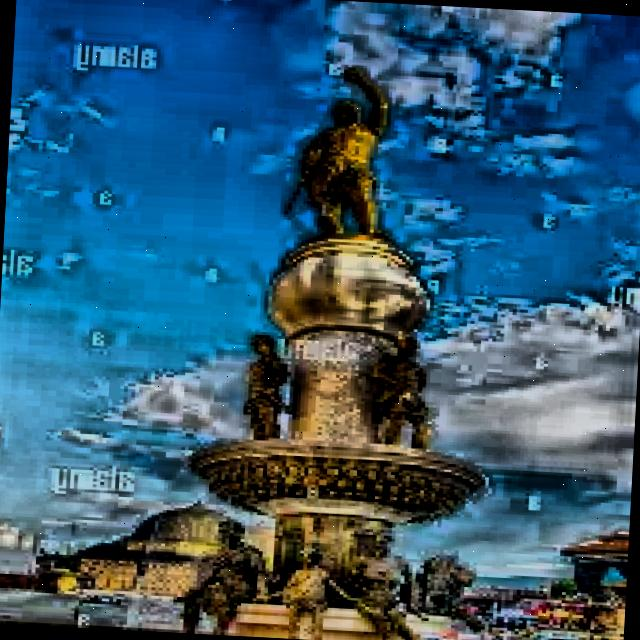Philip II of Macedonia: (170, 57, 511, 640)
